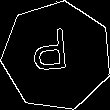P_S: (36, 30, 78, 83)
